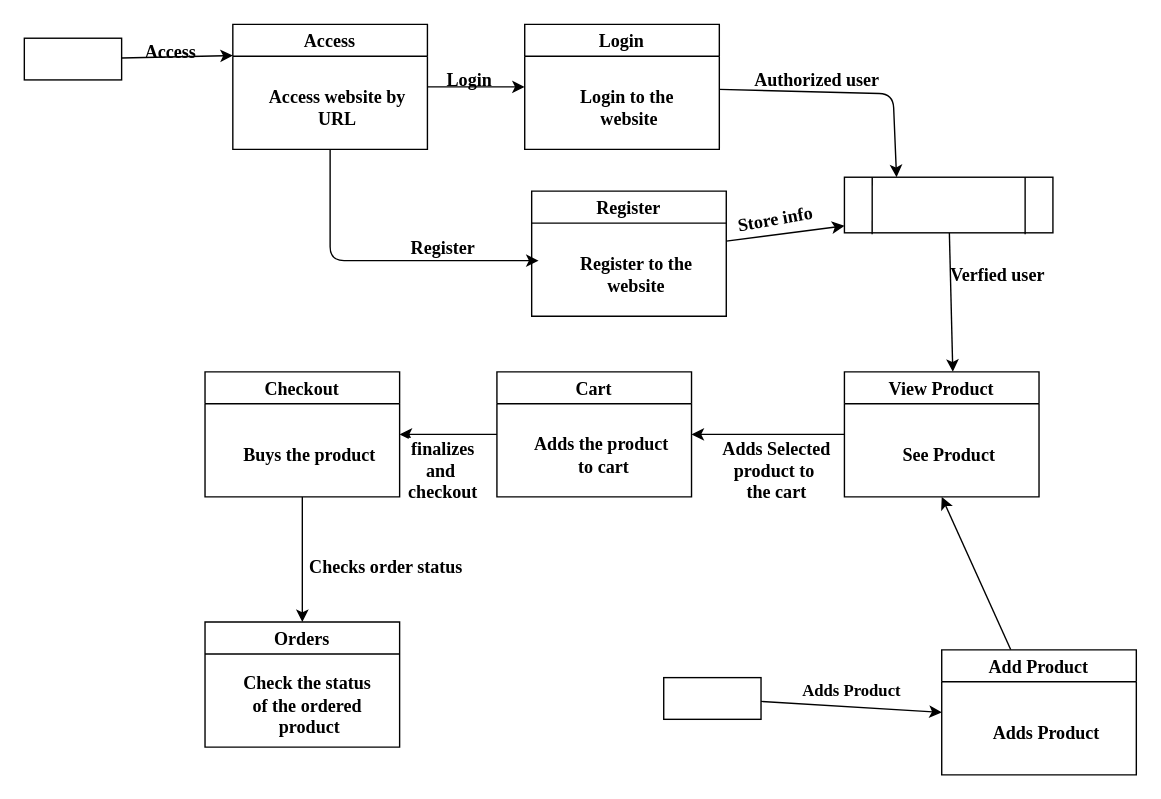
The diagram is 1161 pixels wide and 799 high, and some of its shapes have lost their labels. The centre of each missing label's shape, as x and y in pixels:
"Admin" belongs at pixel 711 697.
"User" belongs at pixel 72 58.
"User Database" belongs at pixel 948 204.
